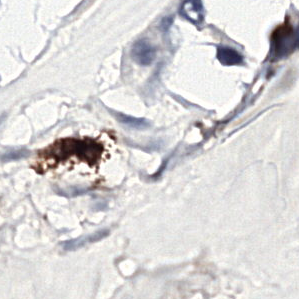Lymphocyte: (270, 23, 292, 43)
